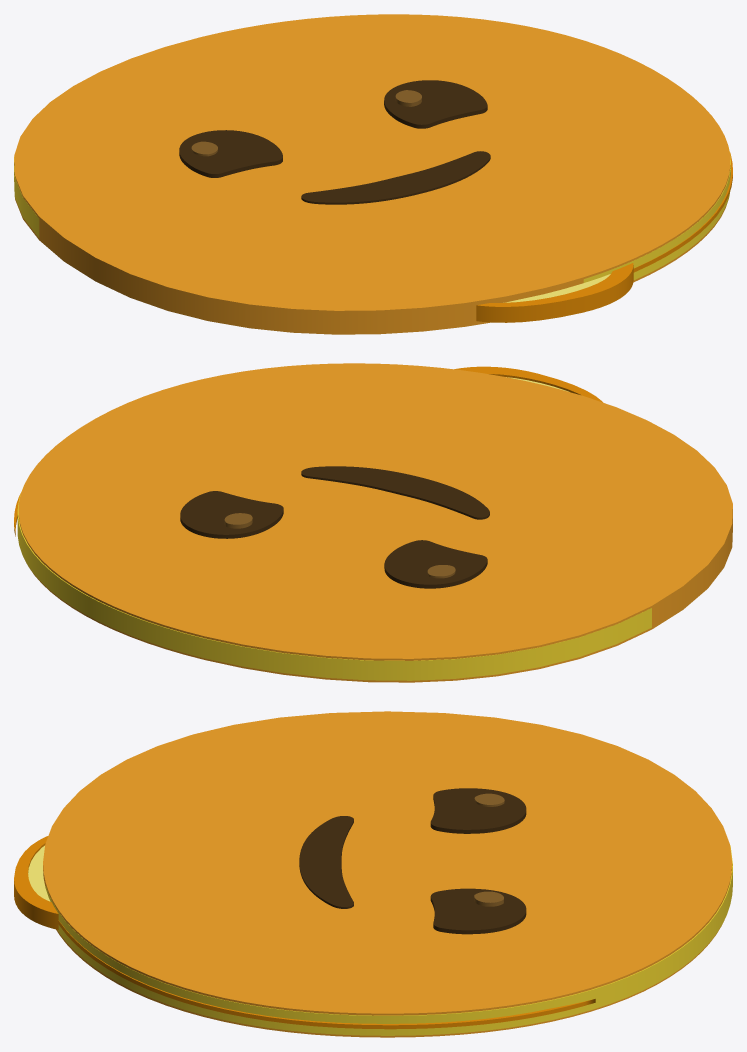
The model's file is emoji_u1f92b.glb.
3 renders of one model, top to bottom at view 1: azimuth 30°, elevation 25°; view 2: azimuth 150°, elevation 25°; view 3: azimuth 270°, elevation 25°, orthographic.
Parts seen in each view (by area): view 1: emoji_u1f92b; view 2: emoji_u1f92b; view 3: emoji_u1f92b.
Part boxes in pixels (x1=…): emoji_u1f92b: x1=14, y1=14, x2=732, y2=334; emoji_u1f92b: x1=14, y1=363, x2=732, y2=682; emoji_u1f92b: x1=14, y1=711, x2=732, y2=1037.
Size of the model in its own units: 0.0327 by 0.002 by 0.0327.
